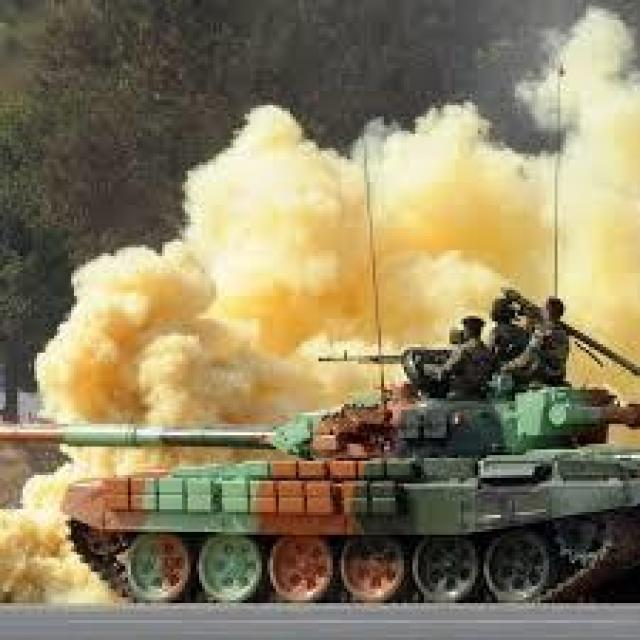MIL_MBT: (68, 303, 572, 604)
